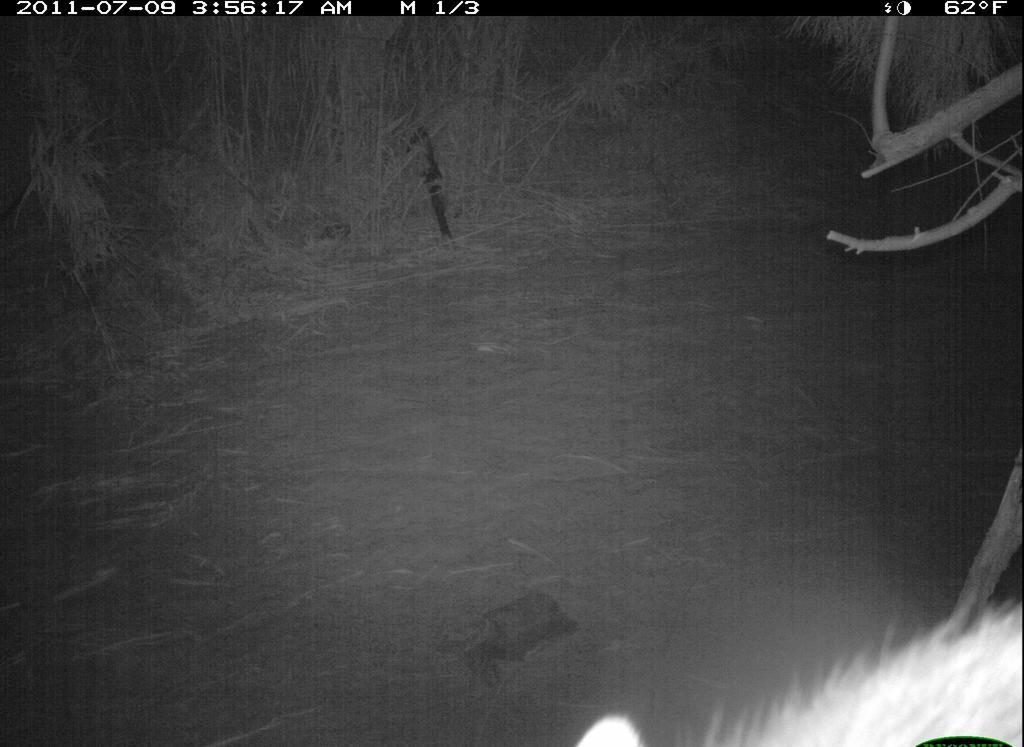raccoon: (556, 587, 1023, 747)
